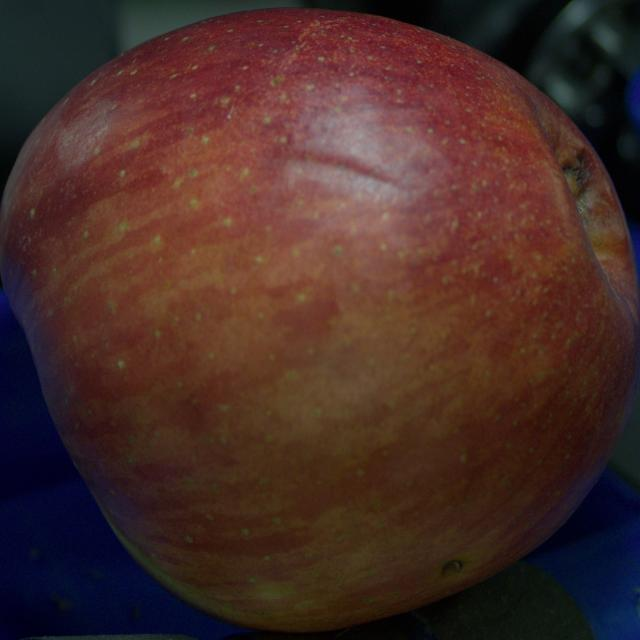apple: (0, 9, 639, 632)
pest: (562, 152, 589, 224), (442, 560, 463, 576)
scratch: (280, 151, 405, 191)
